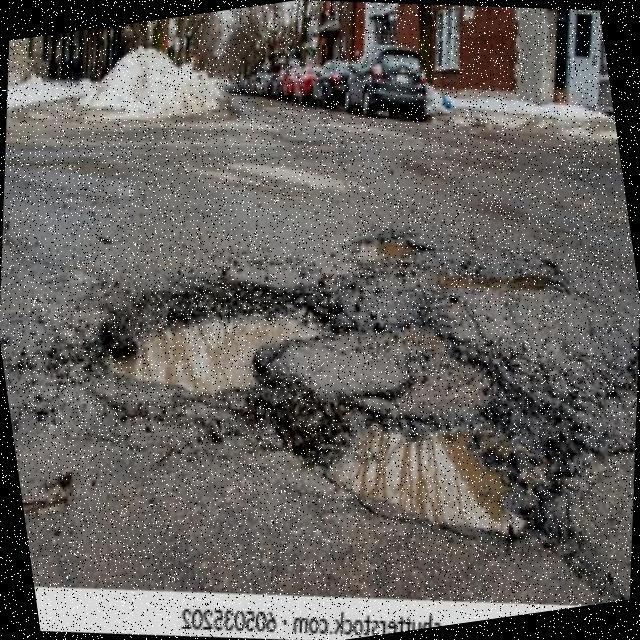Pothole: (83, 279, 350, 394), (314, 414, 524, 538)
